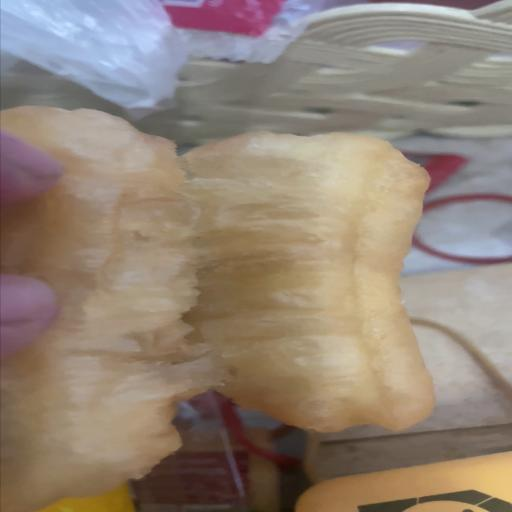street_golden_defect: (0, 126, 436, 512)
